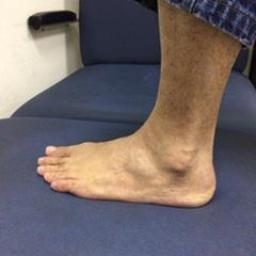Lateral View -Left Foot-: (27, 88, 227, 212)
